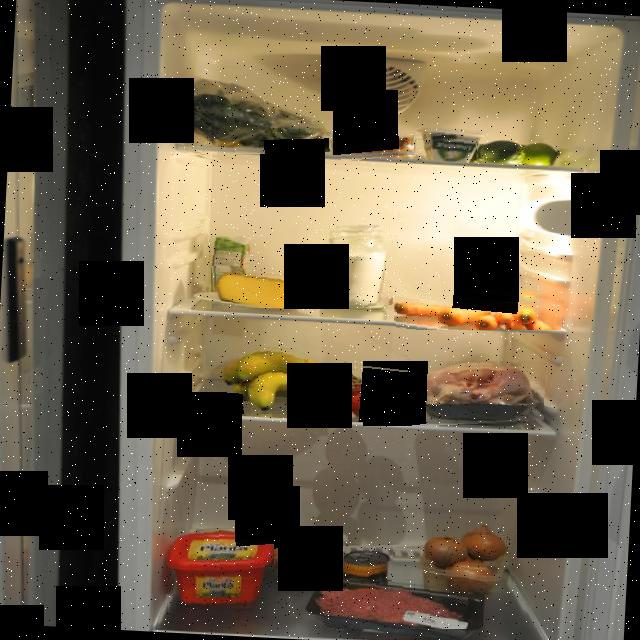banana: (220, 340, 326, 414)
butter: (166, 529, 274, 614)
carrot: (394, 284, 564, 330)
cheese: (212, 266, 292, 308)
chicken: (412, 362, 546, 428)
corn: (338, 546, 393, 585)
goat_cheese: (416, 128, 486, 164)
ground_beef: (308, 578, 468, 629)
heavy_cream: (211, 234, 254, 292)
lime: (476, 138, 560, 166)
onion: (418, 527, 513, 592)
potato: (250, 530, 348, 582)
shrimp: (334, 134, 414, 162)
spinach: (162, 76, 331, 156)
sugar: (316, 224, 400, 310)
tomato: (304, 359, 408, 422)
